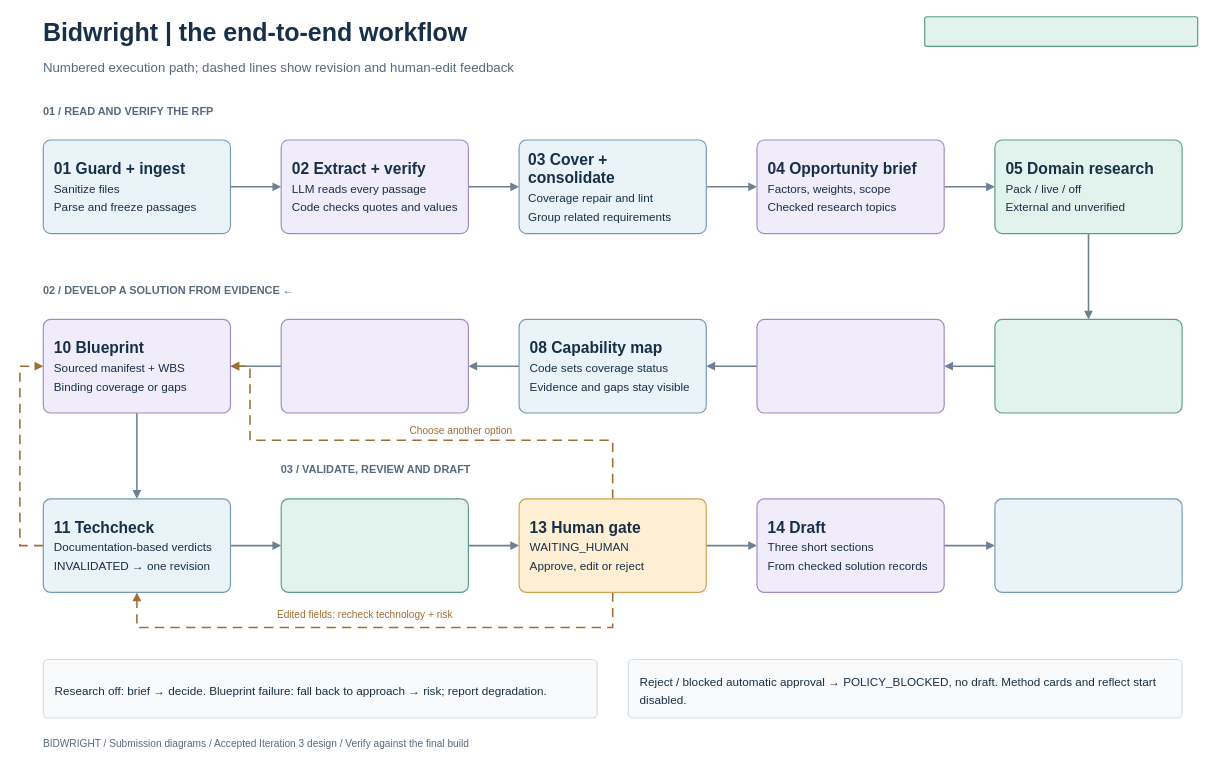
Some shapes in this 1211 by 764 pixel diagram are drawn without their labels. The centre of each missing label's shape, as x and y in pixels:
06 Decide Plan, then one agent per need Join decisions and claims: point 1088,365
07 Blind assessment One call per cited claim No evidence → UNVERIFIED: point 850,365
09 Options Generate alternatives Code weights and ranks: point 374,365
12 Risk agent Manifest, hazards and gaps Search + date/SLA arithmetic: point 374,545
15 Validate + render Summary and review artifacts UNREVIEWED_DRAFT: point 1088,545
ITERATION 3 TARGET | UNREVIEWED_DRAFT: point 1061,31
